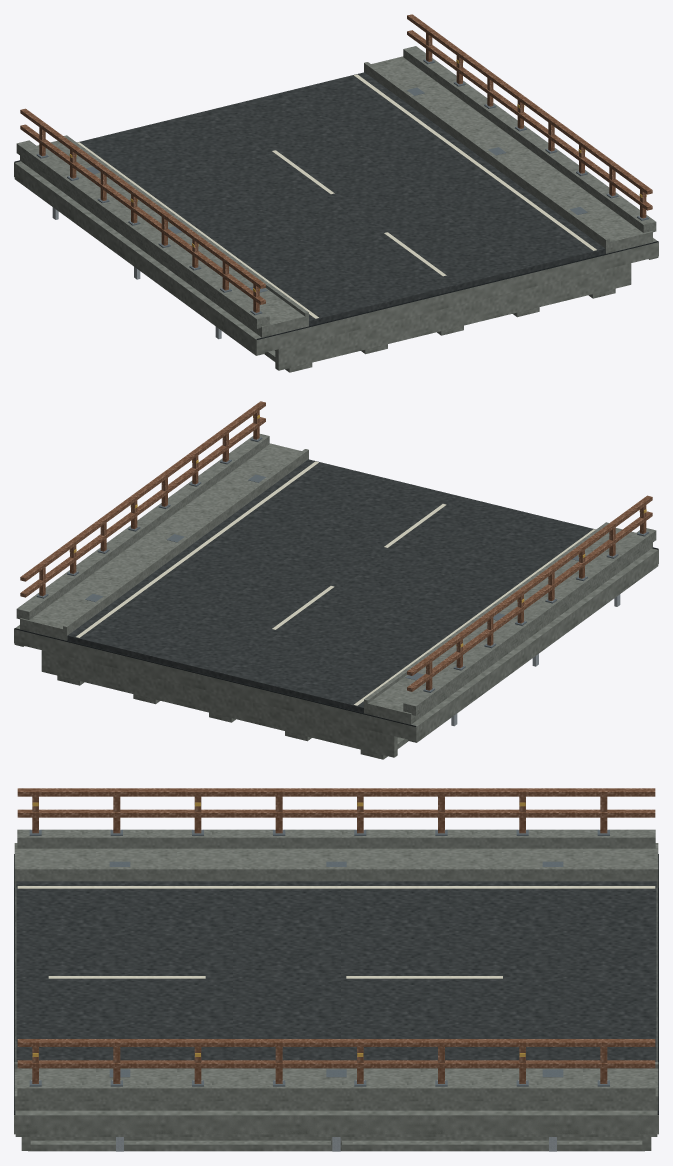
File: PZ_Bridge_Span_12m_Weathered.glb
3 renders of one model, top to bottom at view 1: azimuth 30°, elevation 25°; view 2: azimuth 150°, elevation 25°; view 3: azimuth 270°, elevation 25°, orthographic. The views are drawn at different scales.
Parts seen in each view (by area): view 1: PZ_Bridge_Span_12m_Weathered_PAVEMENT_2LANE, PZ_Bridge_Span_12m_Weathered_SLAB_11400mm, PZ_Bridge_Span_12m_Weathered_EAST_FOOTWAY, PZ_Bridge_Span_12m_Weathered_TRANSVERSE_DIAPHRAGM_NEAR, PZ_Bridge_Span_12m_Weathered_WEST_PARAPET_BASE, PZ_Bridge_Span_12m_Weathered_WEST_FOOTWAY, PZ_Bridge_Span_12m_Weathered_EAST_PARAPET_BASE, PZ_Bridge_Span_12m_Weathered_EAST_KERB, PZ_Bridge_Span_12m_Weathered_EAST_HANDRAIL_1220mm, PZ_Bridge_Span_12m_Weathered_WEST_HANDRAIL_1220mm, PZ_Bridge_Span_12m_Weathered_WEST_HANDRAIL_790mm, PZ_Bridge_Span_12m_Weathered_EAST_HANDRAIL_790mm (+7 smaller); view 2: PZ_Bridge_Span_12m_Weathered_PAVEMENT_2LANE, PZ_Bridge_Span_12m_Weathered_SLAB_11400mm, PZ_Bridge_Span_12m_Weathered_EAST_FOOTWAY, PZ_Bridge_Span_12m_Weathered_TRANSVERSE_DIAPHRAGM_FAR, PZ_Bridge_Span_12m_Weathered_WEST_PARAPET_BASE, PZ_Bridge_Span_12m_Weathered_WEST_FOOTWAY, PZ_Bridge_Span_12m_Weathered_EAST_PARAPET_BASE, PZ_Bridge_Span_12m_Weathered_EAST_HANDRAIL_1220mm, PZ_Bridge_Span_12m_Weathered_WEST_HANDRAIL_1220mm, PZ_Bridge_Span_12m_Weathered_EAST_HANDRAIL_790mm, PZ_Bridge_Span_12m_Weathered_WEST_HANDRAIL_790mm, PZ_Bridge_Span_12m_Weathered_EAST_KERB (+7 smaller); view 3: PZ_Bridge_Span_12m_Weathered_PAVEMENT_2LANE, PZ_Bridge_Span_12m_Weathered_WEST_FOOTWAY, PZ_Bridge_Span_12m_Weathered_SLAB_11400mm, PZ_Bridge_Span_12m_Weathered_EAST_FOOTWAY, PZ_Bridge_Span_12m_Weathered_EAST_PARAPET_BASE, PZ_Bridge_Span_12m_Weathered_WEST_PARAPET_BASE, PZ_Bridge_Span_12m_Weathered_GIRDER_5_BOTTOM_FLANGE, PZ_Bridge_Span_12m_Weathered_WEST_HANDRAIL_1220mm, PZ_Bridge_Span_12m_Weathered_EAST_HANDRAIL_790mm, PZ_Bridge_Span_12m_Weathered_WEST_HANDRAIL_790mm, PZ_Bridge_Span_12m_Weathered_EAST_HANDRAIL_1220mm, PZ_Bridge_Span_12m_Weathered_WEST_KERB (+7 smaller).
Boxes of the visible parts, box(x1,y1,x2,y2) form: PZ_Bridge_Span_12m_Weathered_PAVEMENT_2LANE: box(77, 72, 605, 325); PZ_Bridge_Span_12m_Weathered_SLAB_11400mm: box(14, 161, 658, 354); PZ_Bridge_Span_12m_Weathered_EAST_FOOTWAY: box(364, 56, 652, 253); PZ_Bridge_Span_12m_Weathered_TRANSVERSE_DIAPHRAGM_NEAR: box(275, 263, 631, 370); PZ_Bridge_Span_12m_Weathered_WEST_PARAPET_BASE: box(16, 140, 269, 328); PZ_Bridge_Span_12m_Weathered_WEST_FOOTWAY: box(20, 140, 308, 337); PZ_Bridge_Span_12m_Weathered_EAST_PARAPET_BASE: box(403, 46, 656, 232); PZ_Bridge_Span_12m_Weathered_EAST_KERB: box(364, 62, 609, 249); PZ_Bridge_Span_12m_Weathered_EAST_HANDRAIL_1220mm: box(407, 14, 652, 194); PZ_Bridge_Span_12m_Weathered_WEST_HANDRAIL_1220mm: box(20, 108, 265, 288); PZ_Bridge_Span_12m_Weathered_WEST_HANDRAIL_790mm: box(20, 124, 265, 304); PZ_Bridge_Span_12m_Weathered_EAST_HANDRAIL_790mm: box(407, 30, 652, 210); PZ_Bridge_Span_12m_Weathered_PAVEMENT_2LANE: box(67, 459, 595, 712); PZ_Bridge_Span_12m_Weathered_SLAB_11400mm: box(14, 548, 658, 741); PZ_Bridge_Span_12m_Weathered_EAST_FOOTWAY: box(20, 443, 308, 640); PZ_Bridge_Span_12m_Weathered_TRANSVERSE_DIAPHRAGM_FAR: box(41, 650, 397, 757); PZ_Bridge_Span_12m_Weathered_WEST_PARAPET_BASE: box(403, 528, 656, 715); PZ_Bridge_Span_12m_Weathered_WEST_FOOTWAY: box(364, 528, 652, 724); PZ_Bridge_Span_12m_Weathered_EAST_PARAPET_BASE: box(16, 434, 269, 619); PZ_Bridge_Span_12m_Weathered_EAST_HANDRAIL_1220mm: box(20, 401, 265, 581); PZ_Bridge_Span_12m_Weathered_WEST_HANDRAIL_1220mm: box(407, 495, 652, 675); PZ_Bridge_Span_12m_Weathered_EAST_HANDRAIL_790mm: box(20, 417, 265, 597); PZ_Bridge_Span_12m_Weathered_WEST_HANDRAIL_790mm: box(407, 511, 652, 691); PZ_Bridge_Span_12m_Weathered_EAST_KERB: box(63, 449, 308, 635); PZ_Bridge_Span_12m_Weathered_PAVEMENT_2LANE: box(16, 881, 656, 1061); PZ_Bridge_Span_12m_Weathered_WEST_FOOTWAY: box(14, 843, 658, 887); PZ_Bridge_Span_12m_Weathered_SLAB_11400mm: box(14, 887, 658, 1134); PZ_Bridge_Span_12m_Weathered_EAST_FOOTWAY: box(14, 1068, 658, 1110); PZ_Bridge_Span_12m_Weathered_EAST_PARAPET_BASE: box(17, 1080, 655, 1101); PZ_Bridge_Span_12m_Weathered_WEST_PARAPET_BASE: box(17, 829, 655, 848); PZ_Bridge_Span_12m_Weathered_GIRDER_5_BOTTOM_FLANGE: box(28, 1140, 644, 1151); PZ_Bridge_Span_12m_Weathered_WEST_HANDRAIL_1220mm: box(17, 788, 655, 796); PZ_Bridge_Span_12m_Weathered_EAST_HANDRAIL_790mm: box(17, 1060, 655, 1068); PZ_Bridge_Span_12m_Weathered_WEST_HANDRAIL_790mm: box(17, 809, 655, 817); PZ_Bridge_Span_12m_Weathered_EAST_HANDRAIL_1220mm: box(17, 1039, 655, 1046); PZ_Bridge_Span_12m_Weathered_WEST_KERB: box(14, 867, 658, 880).
Size of the model in its own units: 11.4 by 2.66 by 11.92.
Materials: 8 (8 with a texture image).
